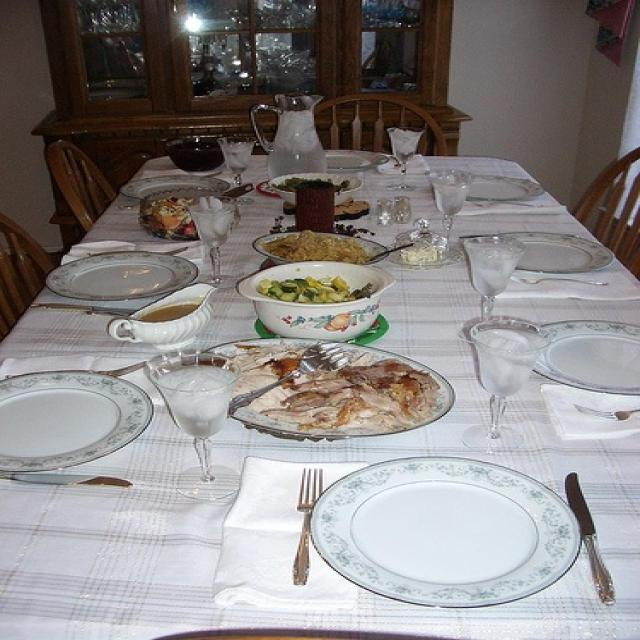chair: (568, 150, 639, 282), (305, 96, 448, 158), (49, 142, 122, 233), (6, 216, 57, 339)
diningtable: (5, 153, 638, 640)
